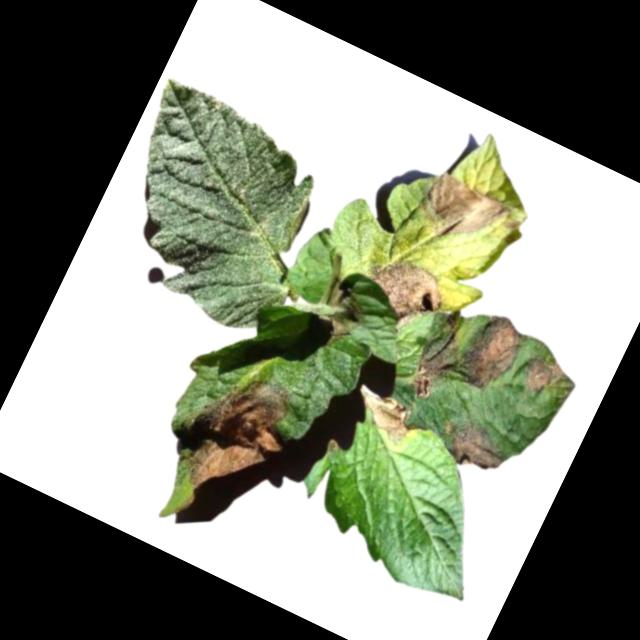Late_blight: (158, 353, 311, 519), (406, 163, 510, 256), (351, 246, 451, 338), (394, 303, 476, 409), (448, 304, 532, 400), (432, 409, 514, 480), (355, 390, 422, 448), (317, 287, 371, 351), (512, 347, 568, 403)
